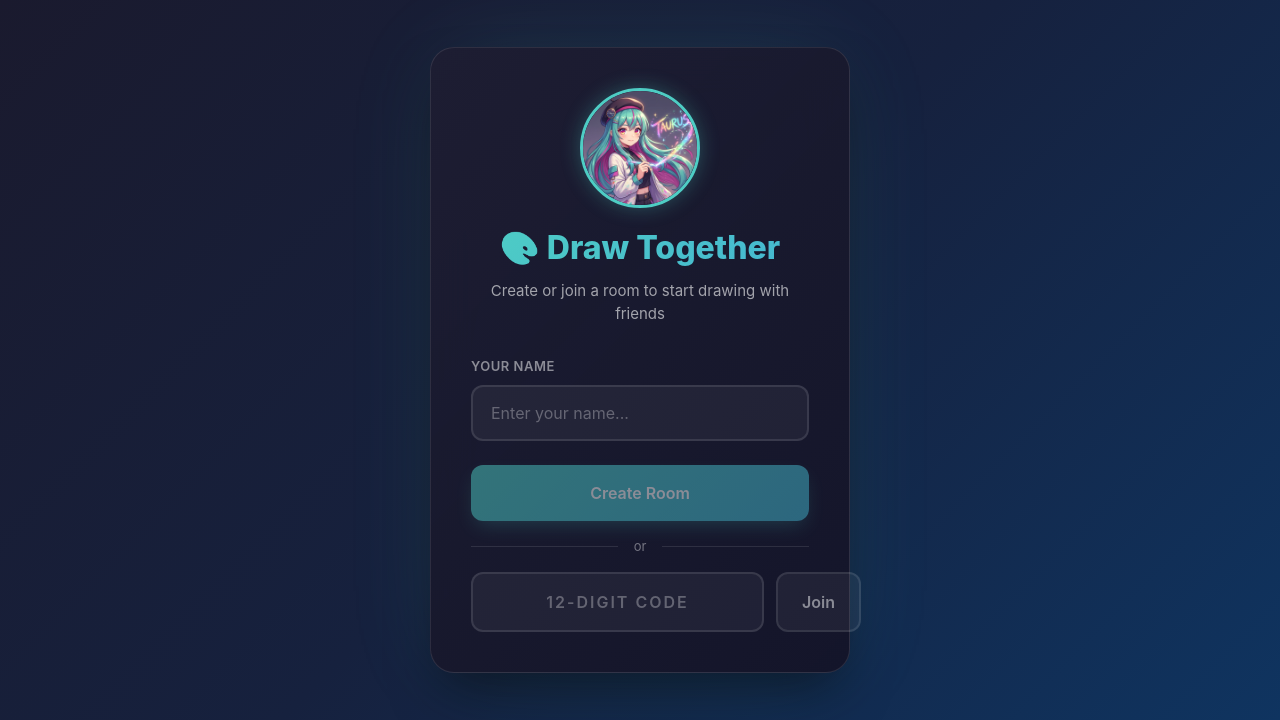
Test: Draw page - room creation › shows error message when room creation fetch fails
Type "Alice" into the field labelled "Your Name" at coordinates (640, 412), box [471,384,809,440]
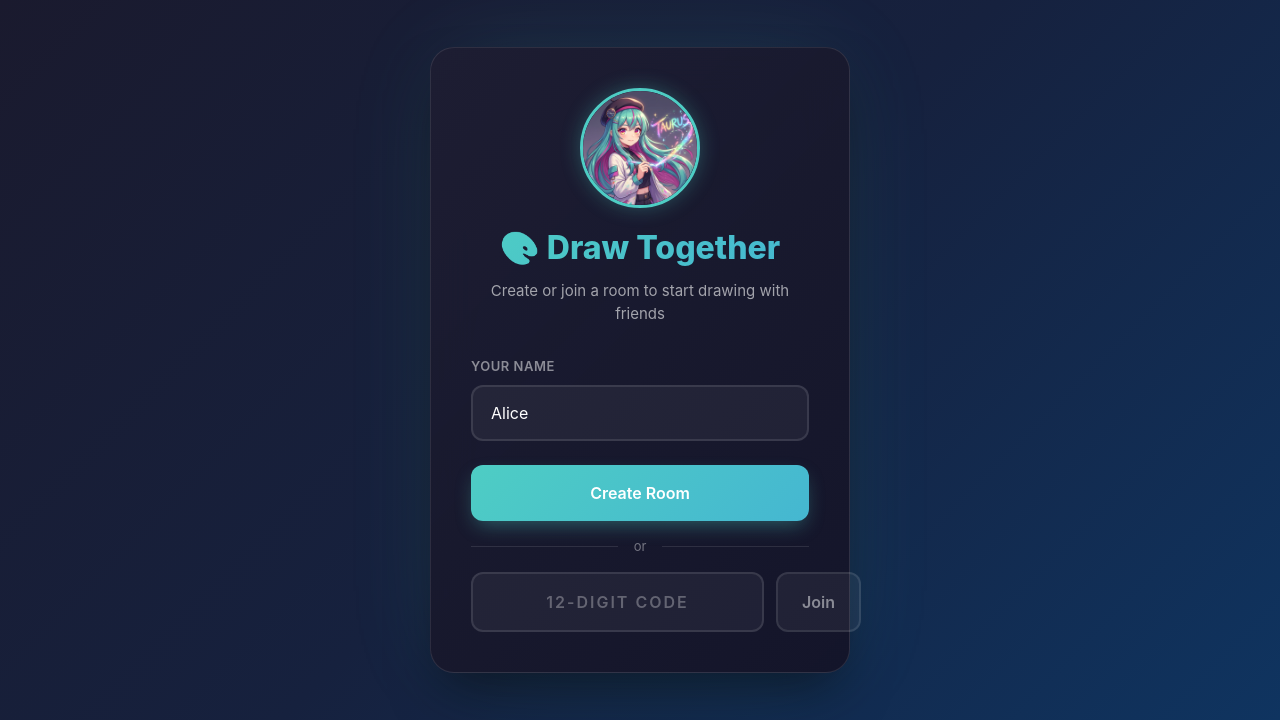
Click the button "Create Room" at coordinates (640, 492), box [471,464,809,520]
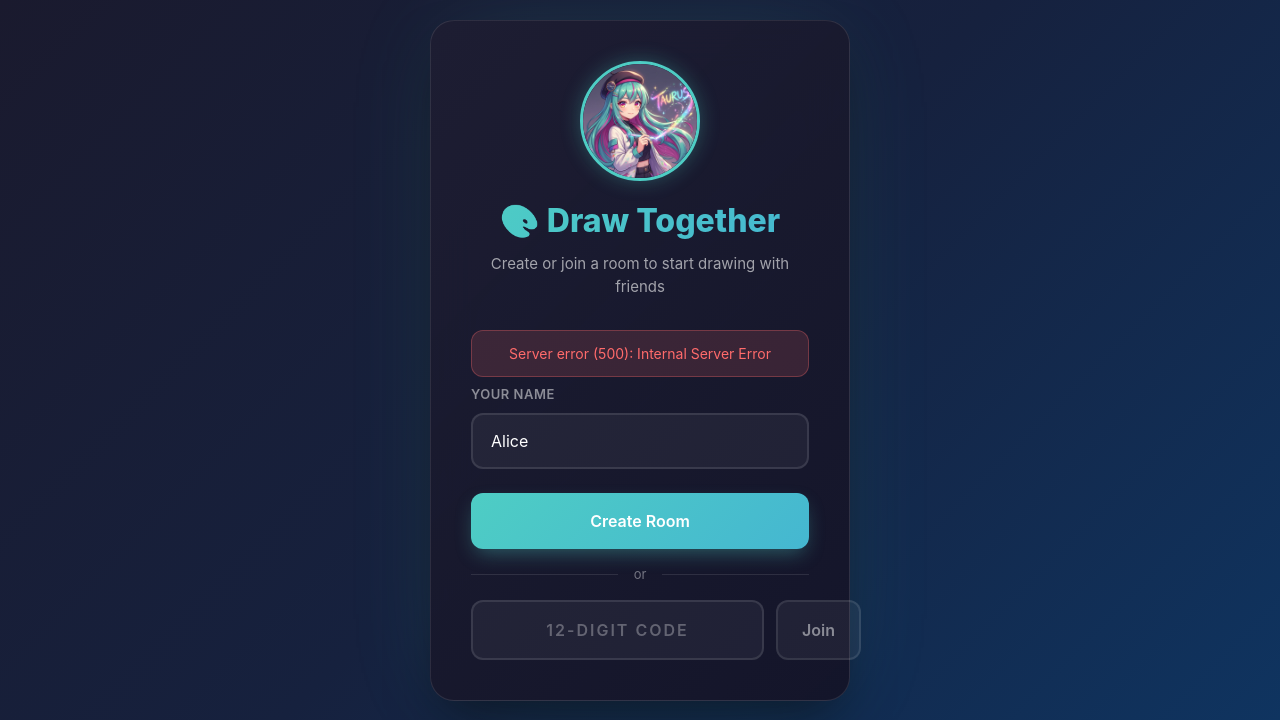
Expected: the message "Server error (500): Internal Server Error" is shown, [471,330,809,377]
